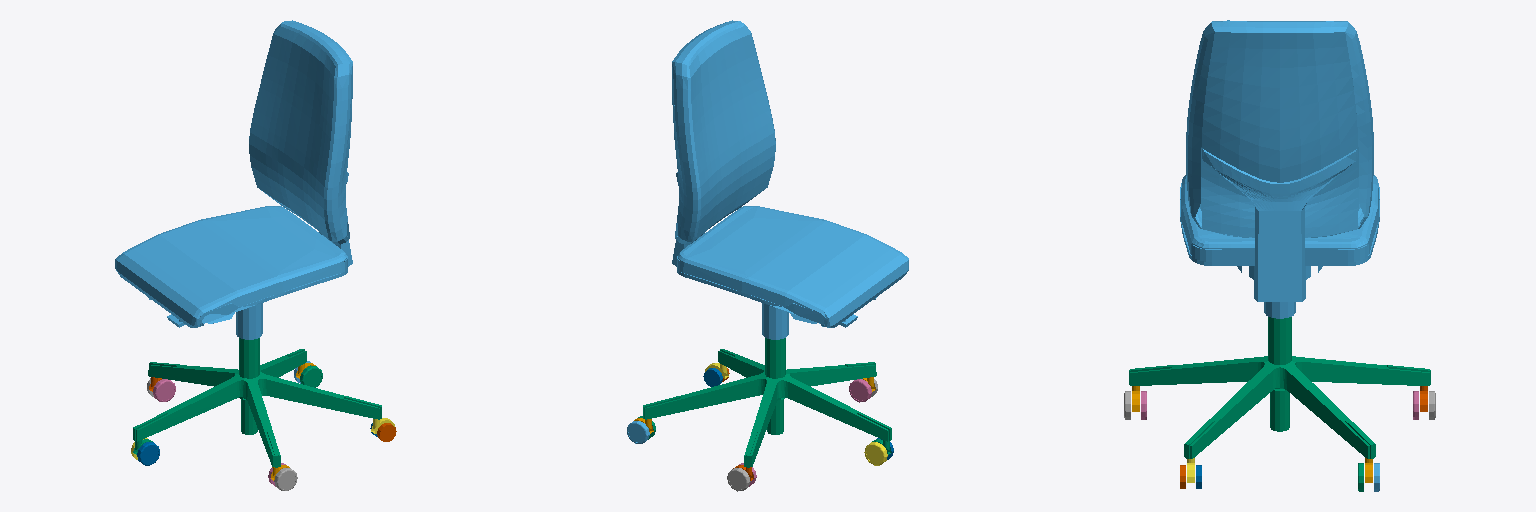
URDF robot description (partnet_8ec247d0e133ad3ce922ceea1248b9b0):
<?xml version="1.0" ?>
<robot name="partnet_8ec247d0e133ad3ce922ceea1248b9b0">
	<link name="base"/>
	<link name="link_0">
		<visual name="lever-38">
			<origin xyz="0 0.20827781407725116 -0.3667189129255714"/>
			<geometry>
				<mesh filename="textured_objs/original-5.obj"/>
			</geometry>
		</visual>
		<collision>
			<origin xyz="0 0.20827781407725116 -0.3667189129255714"/>
			<geometry>
				<mesh filename="textured_objs/original-5.obj"/>
			</geometry>
		</collision>
	</link>
	<joint name="joint_0" type="revolute">
		<origin xyz="0.014698702403924988 -0.20827781407725116 0.28205715558493594"/>
		<axis xyz="1 0 0"/>
		<child link="link_0"/>
		<parent link="link_16"/>
		<limit lower="0.0" upper="0.27017696820872217"/>
	</joint>
	<link name="link_1">
		<visual name="caster_stem-35">
			<origin xyz="0.014852499999999956 0 -0.6053445"/>
			<geometry>
				<mesh filename="textured_objs/original-15.obj"/>
			</geometry>
		</visual>
		<collision>
			<origin xyz="0.014852499999999956 0 -0.6053445"/>
			<geometry>
				<mesh filename="textured_objs/original-15.obj"/>
			</geometry>
		</collision>
	</link>
	<joint name="joint_1" type="continuous">
		<origin xyz="-0.014852499999999956 0 0.6053445"/>
		<axis xyz="0 1 0"/>
		<child link="link_1"/>
		<parent link="link_17"/>
	</joint>
	<link name="link_2">
		<visual name="wheel-36">
			<origin xyz="0 0.7781364716087402 -0.5723215283912597"/>
			<geometry>
				<mesh filename="textured_objs/original-13.obj"/>
			</geometry>
		</visual>
		<collision>
			<origin xyz="0 0.7781364716087402 -0.5723215283912597"/>
			<geometry>
				<mesh filename="textured_objs/original-13.obj"/>
			</geometry>
		</collision>
	</link>
	<joint name="joint_2" type="continuous">
		<origin xyz="0.014852499999999956 -0.7781364716087402 -0.03302297160874024"/>
		<axis xyz="-1 0 0"/>
		<child link="link_2"/>
		<parent link="link_1"/>
	</joint>
	<link name="link_3">
		<visual name="wheel-37">
			<origin xyz="0 0.7781364716087402 -0.5723215283912597"/>
			<geometry>
				<mesh filename="textured_objs/original-14.obj"/>
			</geometry>
		</visual>
		<collision>
			<origin xyz="0 0.7781364716087402 -0.5723215283912597"/>
			<geometry>
				<mesh filename="textured_objs/original-14.obj"/>
			</geometry>
		</collision>
	</link>
	<joint name="joint_3" type="continuous">
		<origin xyz="0.014852499999999956 -0.7781364716087402 -0.03302297160874024"/>
		<axis xyz="-1 0 0"/>
		<child link="link_3"/>
		<parent link="link_1"/>
	</joint>
	<link name="link_4">
		<visual name="caster_stem-32">
			<origin xyz="0.5098845 0 -0.24547449999999998"/>
			<geometry>
				<mesh filename="textured_objs/original-18.obj"/>
			</geometry>
		</visual>
		<collision>
			<origin xyz="0.5098845 0 -0.24547449999999998"/>
			<geometry>
				<mesh filename="textured_objs/original-18.obj"/>
			</geometry>
		</collision>
	</link>
	<joint name="joint_4" type="continuous">
		<origin xyz="-0.5098845 0 0.24547449999999998"/>
		<axis xyz="0 1 0"/>
		<child link="link_4"/>
		<parent link="link_17"/>
	</joint>
	<link name="link_5">
		<visual name="wheel-33">
			<origin xyz="0 0.7781363452425684 -0.212452"/>
			<geometry>
				<mesh filename="textured_objs/original-17.obj"/>
			</geometry>
		</visual>
		<collision>
			<origin xyz="0 0.7781363452425684 -0.212452"/>
			<geometry>
				<mesh filename="textured_objs/original-17.obj"/>
			</geometry>
		</collision>
	</link>
	<joint name="joint_5" type="continuous">
		<origin xyz="0.5098845 -0.7781363452425684 -0.03302249999999998"/>
		<axis xyz="-1 0 0"/>
		<child link="link_5"/>
		<parent link="link_4"/>
	</joint>
	<link name="link_6">
		<visual name="wheel-34">
			<origin xyz="0 0.7781363452425684 -0.212452"/>
			<geometry>
				<mesh filename="textured_objs/original-16.obj"/>
			</geometry>
		</visual>
		<collision>
			<origin xyz="0 0.7781363452425684 -0.212452"/>
			<geometry>
				<mesh filename="textured_objs/original-16.obj"/>
			</geometry>
		</collision>
	</link>
	<joint name="joint_6" type="continuous">
		<origin xyz="0.5098845 -0.7781363452425684 -0.03302249999999998"/>
		<axis xyz="-1 0 0"/>
		<child link="link_6"/>
		<parent link="link_4"/>
	</joint>
	<link name="link_7">
		<visual name="caster_stem-29">
			<origin xyz="0.320657 0 0.336645"/>
			<geometry>
				<mesh filename="textured_objs/original-21.obj"/>
			</geometry>
		</visual>
		<collision>
			<origin xyz="0.320657 0 0.336645"/>
			<geometry>
				<mesh filename="textured_objs/original-21.obj"/>
			</geometry>
		</collision>
	</link>
	<joint name="joint_7" type="continuous">
		<origin xyz="-0.320657 0 -0.336645"/>
		<axis xyz="0 1 0"/>
		<child link="link_7"/>
		<parent link="link_17"/>
	</joint>
	<link name="link_8">
		<visual name="wheel-30">
			<origin xyz="0 0.7781364716087402 0.3696675283912597"/>
			<geometry>
				<mesh filename="textured_objs/original-19.obj"/>
			</geometry>
		</visual>
		<collision>
			<origin xyz="0 0.7781364716087402 0.3696675283912597"/>
			<geometry>
				<mesh filename="textured_objs/original-19.obj"/>
			</geometry>
		</collision>
	</link>
	<joint name="joint_8" type="continuous">
		<origin xyz="0.320657 -0.7781364716087402 -0.03302252839125969"/>
		<axis xyz="-1 0 0"/>
		<child link="link_8"/>
		<parent link="link_7"/>
	</joint>
	<link name="link_9">
		<visual name="wheel-31">
			<origin xyz="0 0.7781364716087402 0.3696675283912597"/>
			<geometry>
				<mesh filename="textured_objs/original-20.obj"/>
			</geometry>
		</visual>
		<collision>
			<origin xyz="0 0.7781364716087402 0.3696675283912597"/>
			<geometry>
				<mesh filename="textured_objs/original-20.obj"/>
			</geometry>
		</collision>
	</link>
	<joint name="joint_9" type="continuous">
		<origin xyz="0.320657 -0.7781364716087402 -0.03302252839125969"/>
		<axis xyz="-1 0 0"/>
		<child link="link_9"/>
		<parent link="link_7"/>
	</joint>
	<link name="link_10">
		<visual name="caster_stem-26">
			<origin xyz="-0.2914135 0 0.3364915"/>
			<geometry>
				<mesh filename="textured_objs/original-24.obj"/>
			</geometry>
		</visual>
		<collision>
			<origin xyz="-0.2914135 0 0.3364915"/>
			<geometry>
				<mesh filename="textured_objs/original-24.obj"/>
			</geometry>
		</collision>
	</link>
	<joint name="joint_10" type="continuous">
		<origin xyz="0.2914135 0 -0.3364915"/>
		<axis xyz="0 1 0"/>
		<child link="link_10"/>
		<parent link="link_17"/>
	</joint>
	<link name="link_11">
		<visual name="wheel-27">
			<origin xyz="0 0.7781359999999999 0.369514"/>
			<geometry>
				<mesh filename="textured_objs/original-22.obj"/>
			</geometry>
		</visual>
		<collision>
			<origin xyz="0 0.7781359999999999 0.369514"/>
			<geometry>
				<mesh filename="textured_objs/original-22.obj"/>
			</geometry>
		</collision>
	</link>
	<joint name="joint_11" type="continuous">
		<origin xyz="-0.2914135 -0.7781359999999999 -0.03302250000000001"/>
		<axis xyz="1 0 0"/>
		<child link="link_11"/>
		<parent link="link_10"/>
	</joint>
	<link name="link_12">
		<visual name="wheel-28">
			<origin xyz="0 0.7781359999999999 0.369514"/>
			<geometry>
				<mesh filename="textured_objs/original-23.obj"/>
			</geometry>
		</visual>
		<collision>
			<origin xyz="0 0.7781359999999999 0.369514"/>
			<geometry>
				<mesh filename="textured_objs/original-23.obj"/>
			</geometry>
		</collision>
	</link>
	<joint name="joint_12" type="continuous">
		<origin xyz="-0.2914135 -0.7781359999999999 -0.03302250000000001"/>
		<axis xyz="1 0 0"/>
		<child link="link_12"/>
		<parent link="link_10"/>
	</joint>
	<link name="link_13">
		<visual name="wheel-23">
			<origin xyz="0 0.7781364716087403 -0.21260552839125968"/>
			<geometry>
				<mesh filename="textured_objs/original-25.obj"/>
			</geometry>
		</visual>
		<collision>
			<origin xyz="0 0.7781364716087403 -0.21260552839125968"/>
			<geometry>
				<mesh filename="textured_objs/original-25.obj"/>
			</geometry>
		</collision>
	</link>
	<joint name="joint_13" type="continuous">
		<origin xyz="-0.480487 -0.7781364716087403 -0.03302290562696092"/>
		<axis xyz="1 0 0"/>
		<child link="link_13"/>
		<parent link="link_15"/>
	</joint>
	<link name="link_14">
		<visual name="wheel-24">
			<origin xyz="0 0.7781364716087403 -0.21260552839125968"/>
			<geometry>
				<mesh filename="textured_objs/original-26.obj"/>
			</geometry>
		</visual>
		<collision>
			<origin xyz="0 0.7781364716087403 -0.21260552839125968"/>
			<geometry>
				<mesh filename="textured_objs/original-26.obj"/>
			</geometry>
		</collision>
	</link>
	<joint name="joint_14" type="continuous">
		<origin xyz="-0.480487 -0.7781364716087403 -0.03302290562696092"/>
		<axis xyz="1 0 0"/>
		<child link="link_14"/>
		<parent link="link_15"/>
	</joint>
	<link name="link_15">
		<visual name="caster_stem-25">
			<origin xyz="-0.480487 0 -0.2456284340182206"/>
			<geometry>
				<mesh filename="textured_objs/original-27.obj"/>
			</geometry>
		</visual>
		<collision>
			<origin xyz="-0.480487 0 -0.2456284340182206"/>
			<geometry>
				<mesh filename="textured_objs/original-27.obj"/>
			</geometry>
		</collision>
	</link>
	<joint name="joint_15" type="continuous">
		<origin xyz="0.480487 0 0.2456284340182206"/>
		<axis xyz="0 1 0"/>
		<child link="link_15"/>
		<parent link="link_17"/>
	</joint>
	<link name="link_16">
		<visual name="seat_soft_surface-42">
			<origin xyz="0.014698702403924988 0 -0.08466175734063547"/>
			<geometry>
				<mesh filename="textured_objs/original-28.obj"/>
			</geometry>
		</visual>
		<visual name="seat_soft_surface-42">
			<origin xyz="0.014698702403924988 0 -0.08466175734063547"/>
			<geometry>
				<mesh filename="textured_objs/original-29.obj"/>
			</geometry>
		</visual>
		<visual name="back_soft_surface-46">
			<origin xyz="0.014698702403924988 0 -0.08466175734063547"/>
			<geometry>
				<mesh filename="textured_objs/original-9.obj"/>
			</geometry>
		</visual>
		<visual name="back_support-44">
			<origin xyz="0.014698702403924988 0 -0.08466175734063547"/>
			<geometry>
				<mesh filename="textured_objs/original-8.obj"/>
			</geometry>
		</visual>
		<visual name="back_connector-45">
			<origin xyz="0.014698702403924988 0 -0.08466175734063547"/>
			<geometry>
				<mesh filename="textured_objs/original-10.obj"/>
			</geometry>
		</visual>
		<visual name="central_support-7">
			<origin xyz="0.014698702403924988 0 -0.08466175734063547"/>
			<geometry>
				<mesh filename="textured_objs/original-2.obj"/>
			</geometry>
		</visual>
		<visual name="seat_connector-10">
			<origin xyz="0.014698702403924988 0 -0.08466175734063547"/>
			<geometry>
				<mesh filename="textured_objs/original-12.obj"/>
			</geometry>
		</visual>
		<visual name="mounting_plate-39">
			<origin xyz="0.014698702403924988 0 -0.08466175734063547"/>
			<geometry>
				<mesh filename="textured_objs/original-11.obj"/>
			</geometry>
		</visual>
		<visual name="lever-47">
			<origin xyz="0.014698702403924988 0 -0.08466175734063547"/>
			<geometry>
				<mesh filename="textured_objs/original-6.obj"/>
			</geometry>
		</visual>
		<visual name="lever-47">
			<origin xyz="0.014698702403924988 0 -0.08466175734063547"/>
			<geometry>
				<mesh filename="textured_objs/original-7.obj"/>
			</geometry>
		</visual>
		<collision>
			<origin xyz="0.014698702403924988 0 -0.08466175734063547"/>
			<geometry>
				<mesh filename="textured_objs/original-28.obj"/>
			</geometry>
		</collision>
		<collision>
			<origin xyz="0.014698702403924988 0 -0.08466175734063547"/>
			<geometry>
				<mesh filename="textured_objs/original-29.obj"/>
			</geometry>
		</collision>
		<collision>
			<origin xyz="0.014698702403924988 0 -0.08466175734063547"/>
			<geometry>
				<mesh filename="textured_objs/original-9.obj"/>
			</geometry>
		</collision>
		<collision>
			<origin xyz="0.014698702403924988 0 -0.08466175734063547"/>
			<geometry>
				<mesh filename="textured_objs/original-8.obj"/>
			</geometry>
		</collision>
		<collision>
			<origin xyz="0.014698702403924988 0 -0.08466175734063547"/>
			<geometry>
				<mesh filename="textured_objs/original-10.obj"/>
			</geometry>
		</collision>
		<collision>
			<origin xyz="0.014698702403924988 0 -0.08466175734063547"/>
			<geometry>
				<mesh filename="textured_objs/original-2.obj"/>
			</geometry>
		</collision>
		<collision>
			<origin xyz="0.014698702403924988 0 -0.08466175734063547"/>
			<geometry>
				<mesh filename="textured_objs/original-12.obj"/>
			</geometry>
		</collision>
		<collision>
			<origin xyz="0.014698702403924988 0 -0.08466175734063547"/>
			<geometry>
				<mesh filename="textured_objs/original-11.obj"/>
			</geometry>
		</collision>
		<collision>
			<origin xyz="0.014698702403924988 0 -0.08466175734063547"/>
			<geometry>
				<mesh filename="textured_objs/original-6.obj"/>
			</geometry>
		</collision>
		<collision>
			<origin xyz="0.014698702403924988 0 -0.08466175734063547"/>
			<geometry>
				<mesh filename="textured_objs/original-7.obj"/>
			</geometry>
		</collision>
	</link>
	<joint name="joint_16" type="continuous">
		<origin xyz="0.0 0 0.0"/>
		<axis xyz="0 -1 0"/>
		<child link="link_16"/>
		<parent link="link_16_helper"/>
	</joint>
	<link name="link_17">
		<visual name="central_support-5">
			<origin xyz="0 0 0"/>
			<geometry>
				<mesh filename="textured_objs/original-3.obj"/>
			</geometry>
		</visual>
		<visual name="central_support-5">
			<origin xyz="0 0 0"/>
			<geometry>
				<mesh filename="textured_objs/original-4.obj"/>
			</geometry>
		</visual>
		<visual name="central_support-6">
			<origin xyz="0 0 0"/>
			<geometry>
				<mesh filename="textured_objs/new-5.obj"/>
			</geometry>
		</visual>
		<visual name="leg-11">
			<origin xyz="0 0 0"/>
			<geometry>
				<mesh filename="textured_objs/new-1.obj"/>
			</geometry>
		</visual>
		<visual name="leg-12">
			<origin xyz="0 0 0"/>
			<geometry>
				<mesh filename="textured_objs/new-0.obj"/>
			</geometry>
		</visual>
		<visual name="leg-13">
			<origin xyz="0 0 0"/>
			<geometry>
				<mesh filename="textured_objs/new-4.obj"/>
			</geometry>
		</visual>
		<visual name="leg-14">
			<origin xyz="0 0 0"/>
			<geometry>
				<mesh filename="textured_objs/new-3.obj"/>
			</geometry>
		</visual>
		<visual name="leg-15">
			<origin xyz="0 0 0"/>
			<geometry>
				<mesh filename="textured_objs/new-2.obj"/>
			</geometry>
		</visual>
		<collision>
			<origin xyz="0 0 0"/>
			<geometry>
				<mesh filename="textured_objs/original-3.obj"/>
			</geometry>
		</collision>
		<collision>
			<origin xyz="0 0 0"/>
			<geometry>
				<mesh filename="textured_objs/original-4.obj"/>
			</geometry>
		</collision>
		<collision>
			<origin xyz="0 0 0"/>
			<geometry>
				<mesh filename="textured_objs/new-5.obj"/>
			</geometry>
		</collision>
		<collision>
			<origin xyz="0 0 0"/>
			<geometry>
				<mesh filename="textured_objs/new-1.obj"/>
			</geometry>
		</collision>
		<collision>
			<origin xyz="0 0 0"/>
			<geometry>
				<mesh filename="textured_objs/new-0.obj"/>
			</geometry>
		</collision>
		<collision>
			<origin xyz="0 0 0"/>
			<geometry>
				<mesh filename="textured_objs/new-4.obj"/>
			</geometry>
		</collision>
		<collision>
			<origin xyz="0 0 0"/>
			<geometry>
				<mesh filename="textured_objs/new-3.obj"/>
			</geometry>
		</collision>
		<collision>
			<origin xyz="0 0 0"/>
			<geometry>
				<mesh filename="textured_objs/new-2.obj"/>
			</geometry>
		</collision>
	</link>
	<joint name="joint_17" type="fixed">
		<origin rpy="1.570796326794897 0 -1.570796326794897" xyz="0 0 0"/>
		<child link="link_17"/>
		<parent link="base"/>
	</joint>
	<link name="link_16_helper"/>
	<joint name="joint_18" type="prismatic">
		<origin xyz="-0.014698702403924988 0 0.08466175734063547"/>
		<axis xyz="0 -1 0"/>
		<child link="link_16_helper"/>
		<parent link="link_17"/>
		<limit lower="0" upper="0.052000000000000046"/>
	</joint>
</robot>

--- Render facts (derived) ---
3 views of the same robot in one strip: view 1: azimuth 30°, elevation 25°; view 2: azimuth 150°, elevation 25°; view 3: azimuth 270°, elevation 25° (orthographic).
Robot: partnet_8ec247d0e133ad3ce922ceea1248b9b0 — 20 links, 19 joints (1 revolute, 16 continuous, 1 prismatic, 1 fixed); root link base; default pose: every joint at zero.
Links seen in each view (by area): view 1: link_16, link_17; view 2: link_16, link_17; view 3: link_16, link_17.
Link boxes in pixels (bbox=[...]): link_16: bbox=[115, 20, 352, 339]; link_17: bbox=[133, 338, 381, 467]; link_16: bbox=[672, 20, 908, 339]; link_17: bbox=[643, 338, 891, 467]; link_16: bbox=[1180, 20, 1379, 318]; link_17: bbox=[1129, 317, 1430, 458].
Size in the robot's own frame: 1.05 by 1.07 by 1.72 metres.
34 mesh visuals loaded from 34 distinct referenced files (34 OBJ).